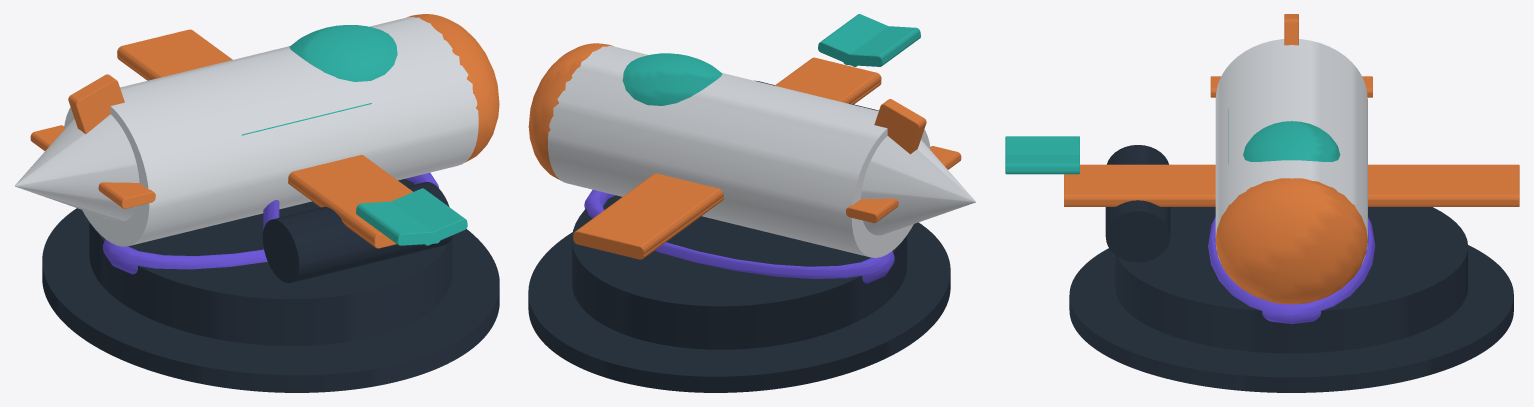
File: 0345_航空航天图鉴_C-130运输机.glb
3 renders of one model, left to right at view 1: azimuth 30°, elevation 25°; view 2: azimuth 150°, elevation 25°; view 3: azimuth 270°, elevation 25°, orthographic. The views are drawn at different scales.
Visible parts, largest first — view 1: card_0345; view 2: card_0345; view 3: card_0345.
Boxes of the visible parts, x1=… form: card_0345: x1=14, y1=14, x2=499, y2=392; card_0345: x1=528, y1=14, x2=975, y2=392; card_0345: x1=1005, y1=14, x2=1519, y2=392.
Size of the model in its own units: 1.95 by 1 by 2.09.
